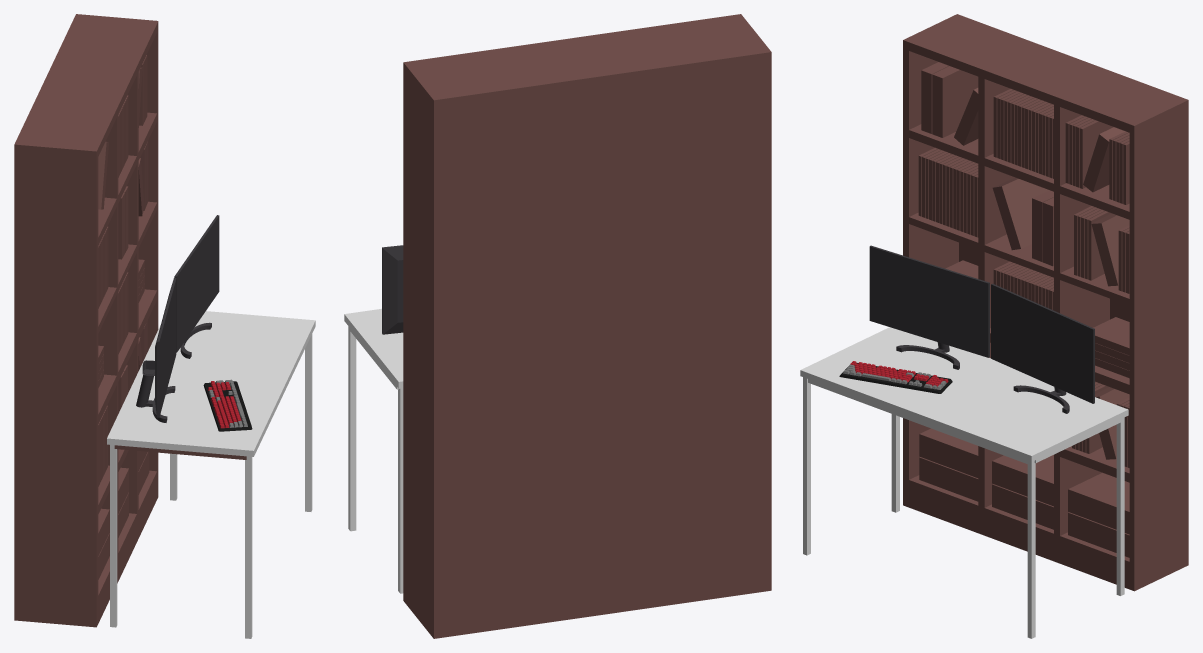
The model's file is bookshelder.glb.
3 renders of one model, left to right at view 1: azimuth 30°, elevation 25°; view 2: azimuth 150°, elevation 25°; view 3: azimuth 270°, elevation 25°, orthographic. The views are drawn at different scales.
Visible parts, largest first — view 1: 큐브.022; view 2: 큐브.022; view 3: 큐브.022.
Boxes of the visible parts, left/top/right/bottom form: 큐브.022: left=14, top=14, right=315, bottom=638; 큐브.022: left=344, top=14, right=771, bottom=638; 큐브.022: left=800, top=14, right=1188, bottom=638.
Bounding box in the file's own units: 1.49 × 2 × 1.51.
